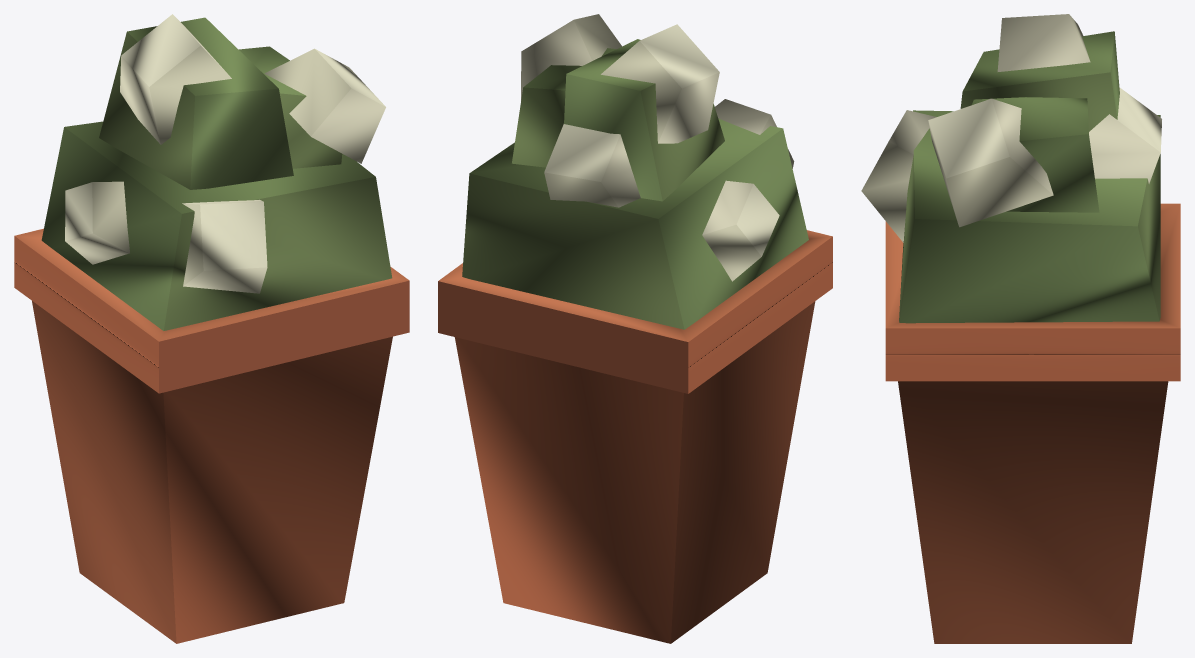
File: apoc_prop_21.glb
3 views of the same model, side by side, from view 1: azimuth 30°, elevation 25°; view 2: azimuth 150°, elevation 25°; view 3: azimuth 270°, elevation 25° (orthographic). The views are drawn at different scales.
Parts seen in each view (by area): view 1: prop_021; view 2: prop_021; view 3: prop_021.
Boxes of the visible parts, box(x1,y1,x2,y2) form: prop_021: box(14, 14, 409, 643); prop_021: box(438, 14, 832, 643); prop_021: box(861, 14, 1180, 643).
Size of the model in its own units: 0.0543 by 0.1094 by 0.0549.
1 material, 1 textured.
